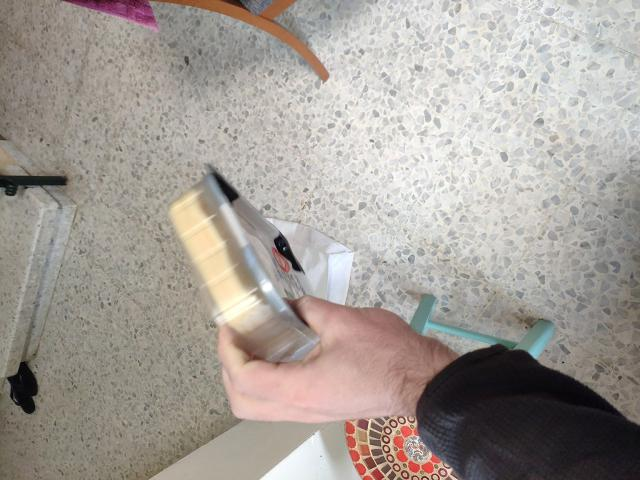cheese: (123, 154, 366, 458)
